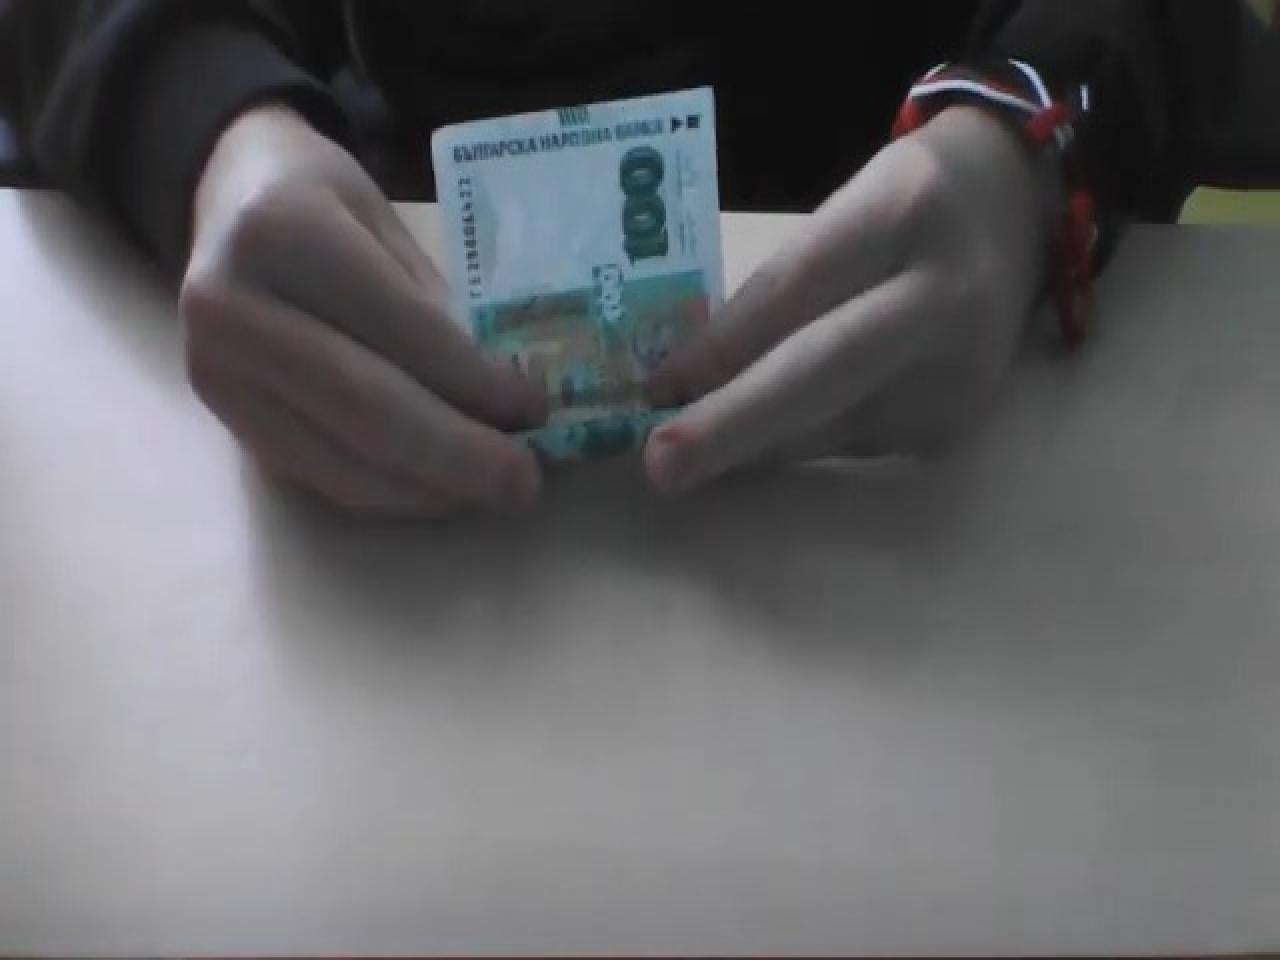100leva: (428, 83, 726, 472)
